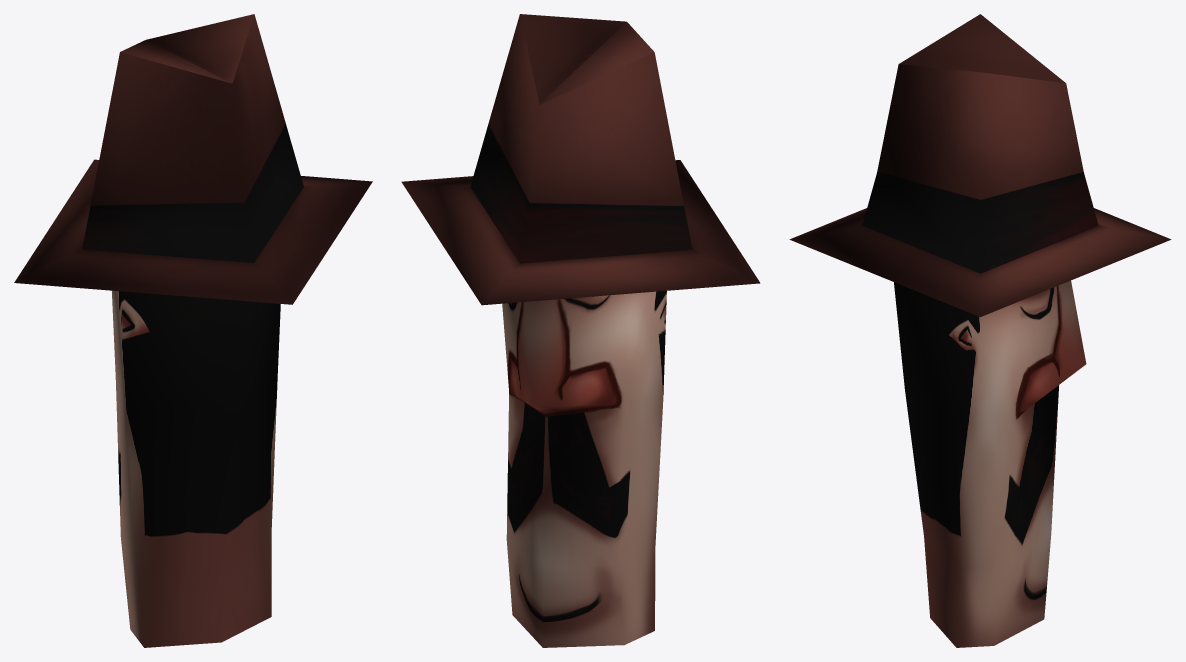
File: UnionBuster.glb
The picture shows the model from 3 angles, left to right: view 1: azimuth 30°, elevation 25°; view 2: azimuth 150°, elevation 25°; view 3: azimuth 270°, elevation 25°; orthographic projection. The views are drawn at different scales.
Visible parts, largest first — view 1: UnionBuster; view 2: UnionBuster; view 3: UnionBuster.
Boxes of the visible parts, x1,y1,x2,y2 form: UnionBuster: (14,14,372,647); UnionBuster: (401,14,760,647); UnionBuster: (789,14,1171,647).
Size of the model in its own units: 1.56 by 2.47 by 1.49.
Materials: 1 (1 with a texture image).
